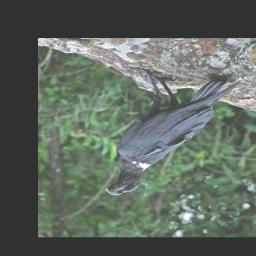Crow: (103, 67, 240, 198)
